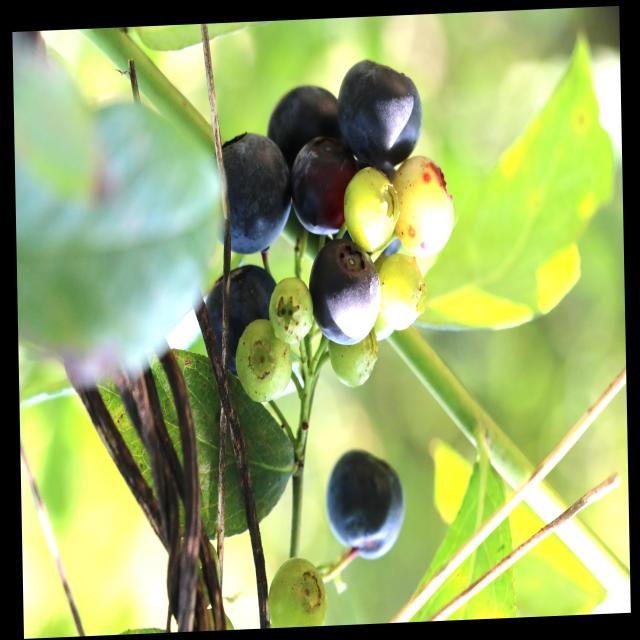blueberry: (204, 128, 294, 255), (338, 53, 428, 175), (326, 446, 405, 562), (203, 267, 281, 379), (309, 240, 386, 349), (292, 141, 354, 238), (258, 89, 341, 154)
blueberry-unripe: (390, 153, 458, 256), (235, 317, 291, 410), (344, 164, 399, 256), (266, 558, 329, 628), (379, 252, 426, 334), (270, 269, 316, 346), (324, 332, 381, 389)
